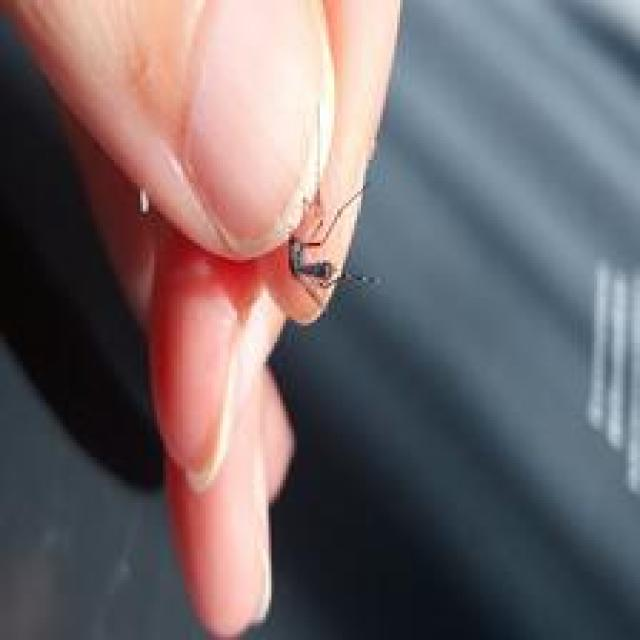Aedes albopictus: (286, 181, 383, 310)
